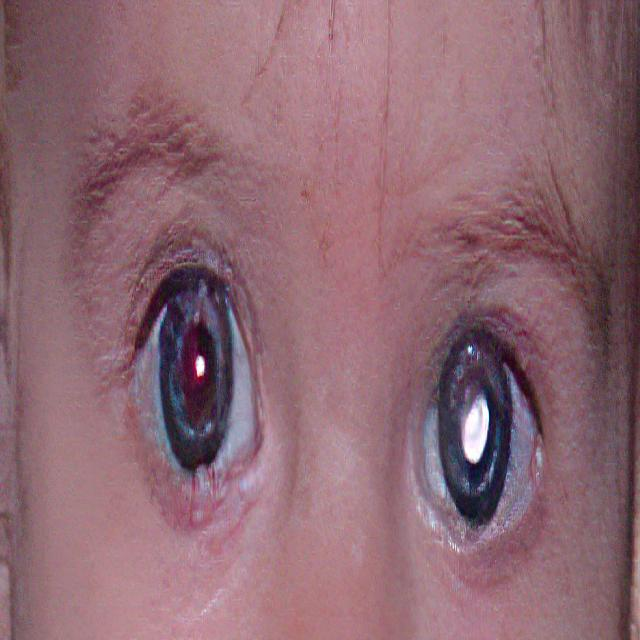reflexo-alterado: (110, 243, 268, 529), (416, 287, 560, 561)
